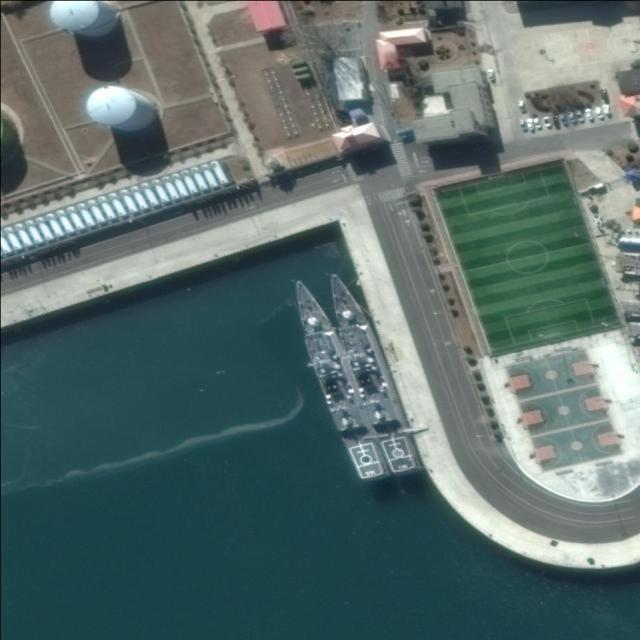Auxiliary Ships: (286, 275, 387, 487), (321, 264, 419, 478)
